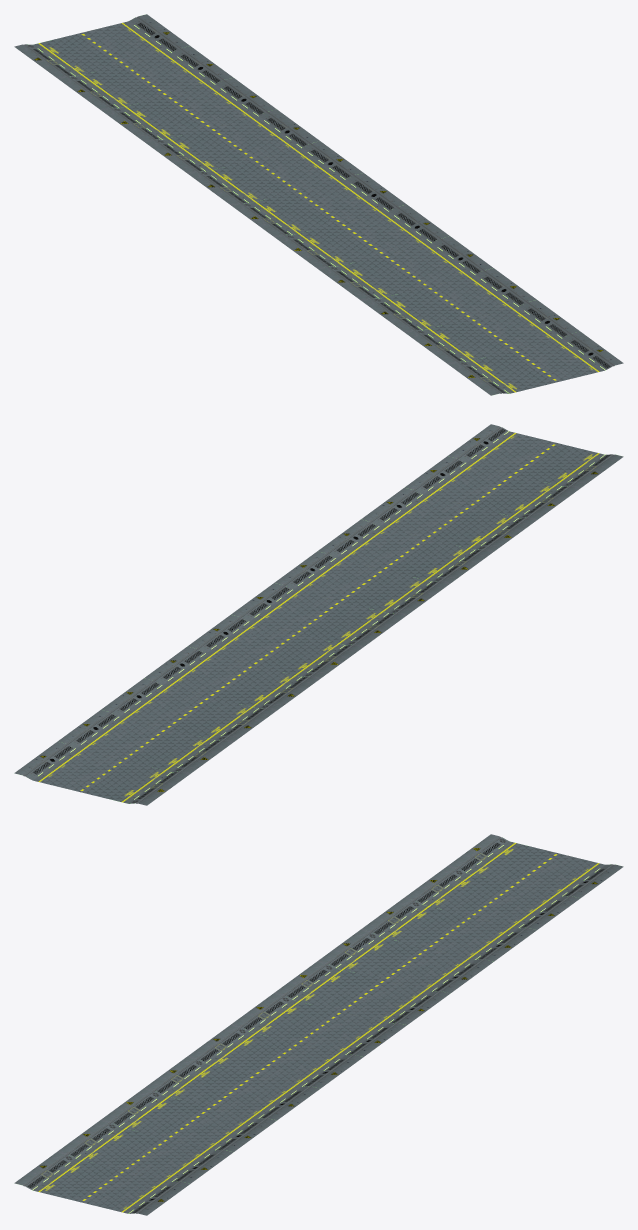
The model's file is Carretera Completa.fbx.
3 views of the same model, one above another, from view 1: azimuth 30°, elevation 25°; view 2: azimuth 150°, elevation 25°; view 3: azimuth 330°, elevation 25° (orthographic).
Visible parts, largest first — view 1: Carretera_Completa; view 2: Carretera_Completa; view 3: Carretera_Completa.
Boxes of the visible parts, box(x1,y1,x2,y2) form: Carretera_Completa: box(14, 14, 623, 395); Carretera_Completa: box(14, 424, 623, 805); Carretera_Completa: box(14, 834, 623, 1215).
Size of the model in its own units: 2187 by 41.76 by 13587.
1 material, 1 textured.
